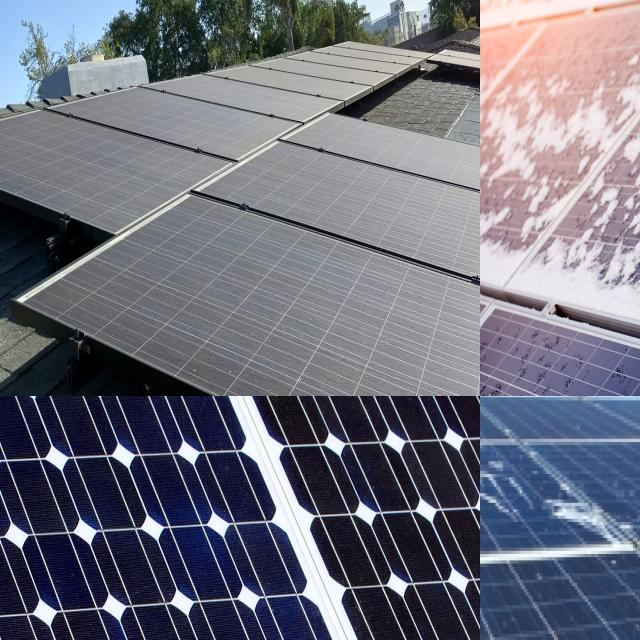bird: (542, 477, 621, 542), (480, 442, 522, 513), (480, 443, 514, 517)
crack: (0, 396, 480, 640)
dust: (182, 180, 346, 379), (359, 272, 480, 396), (5, 120, 130, 213), (373, 171, 480, 257), (136, 88, 250, 144), (254, 60, 367, 90), (307, 116, 342, 178)
panel: (480, 101, 567, 210), (564, 0, 640, 87), (562, 73, 640, 141), (480, 0, 555, 66), (546, 227, 622, 283)
